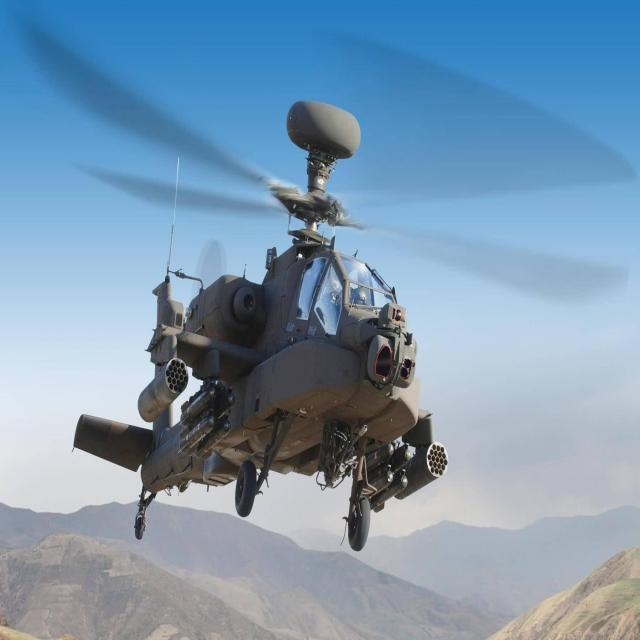MIL_HELO: (28, 13, 617, 556)
